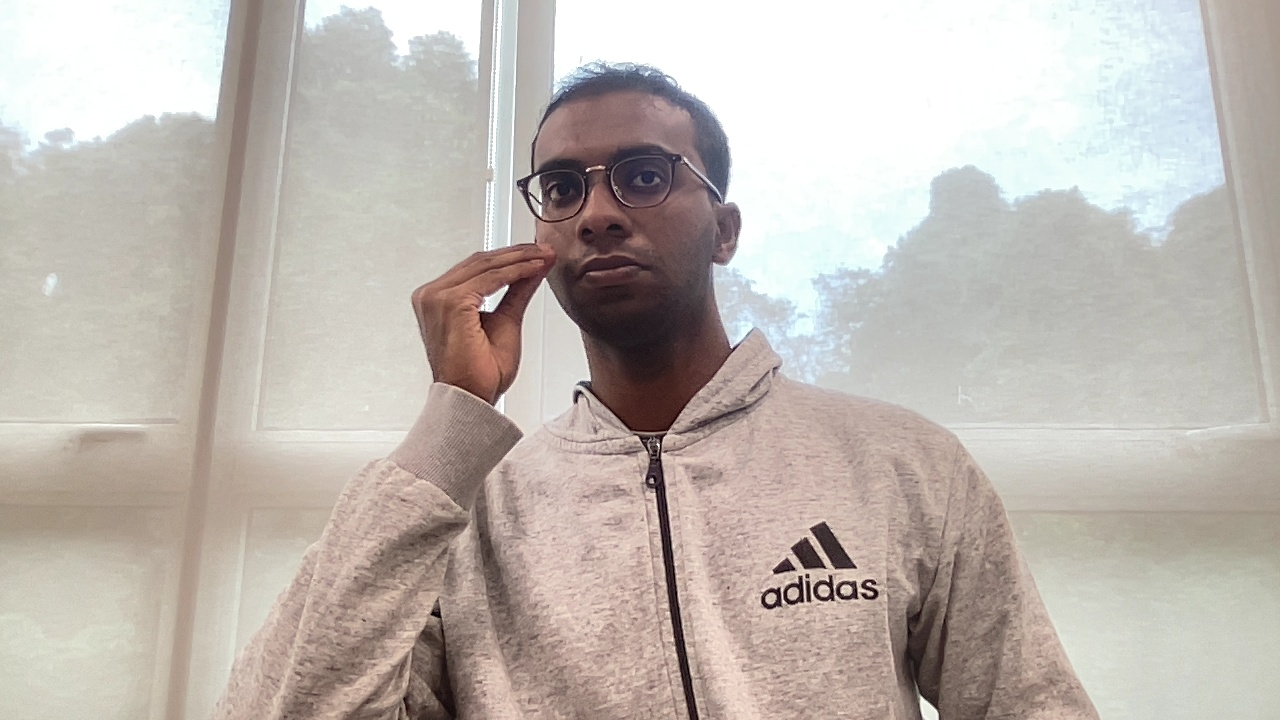eat: (406, 242, 559, 388)
